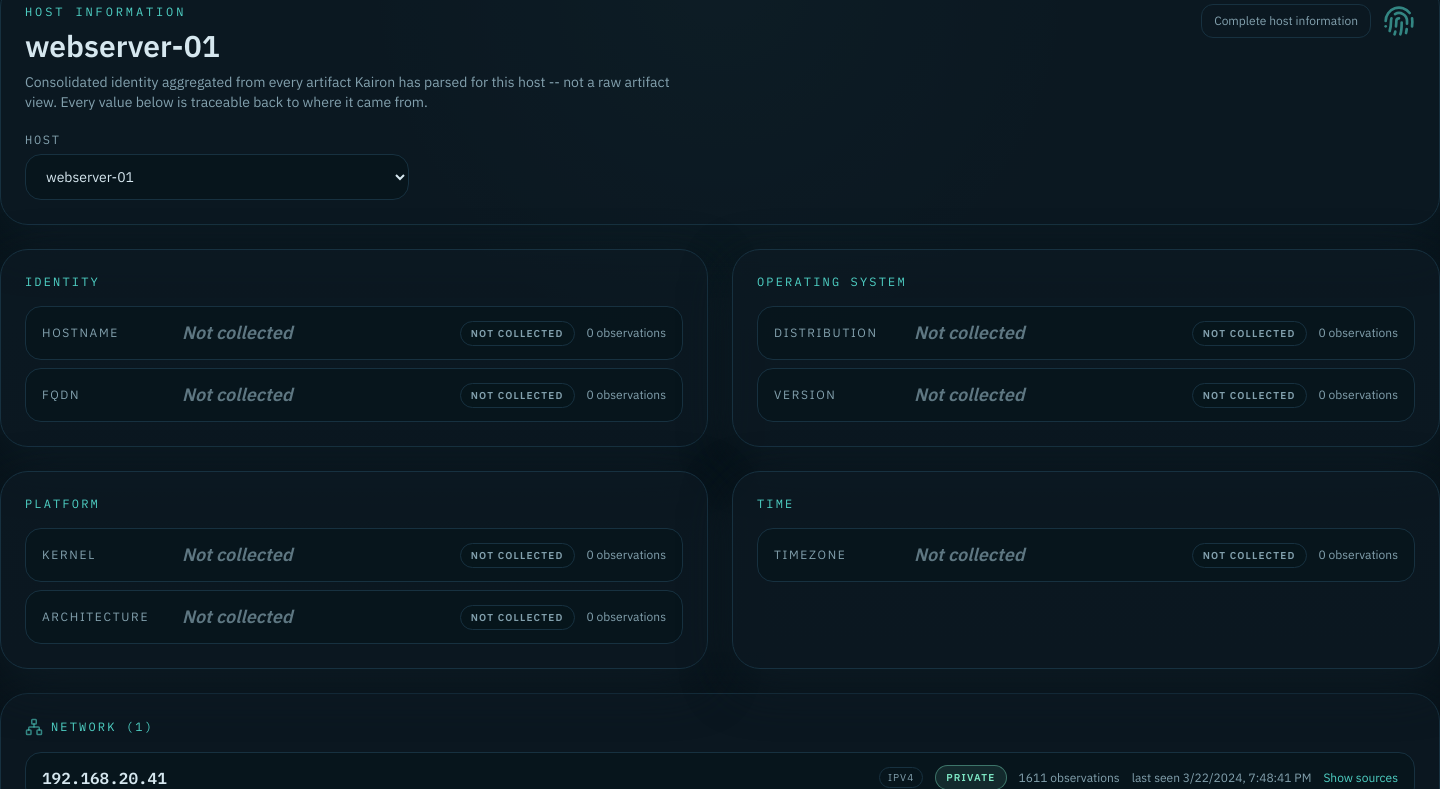
Test case: HostInformationPage › Network › fetches network observations scoped to the selected host, never merging across hosts
Expected: the element with test id "network-address-row" shows "192.168.20.41", [42,768,167,788]
Select "db-02" in the dropdown with test id "host-selector": (217, 177) [25,154,409,200]
(page scrolled)
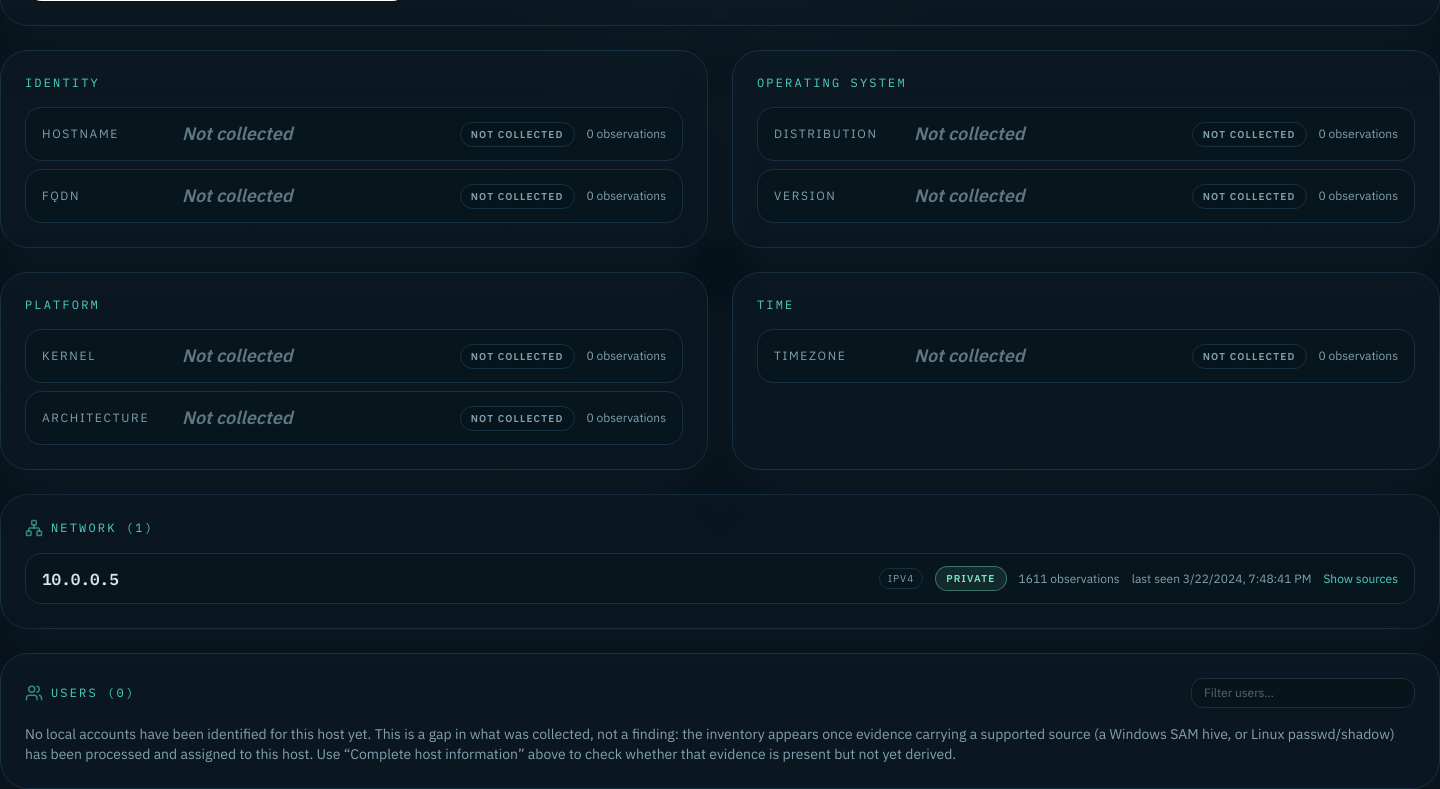
Now the element with test id "network-address-row" shows "10.0.0.5", box [42,568,119,588]
Now the heading "192.168.20.41" is gone
